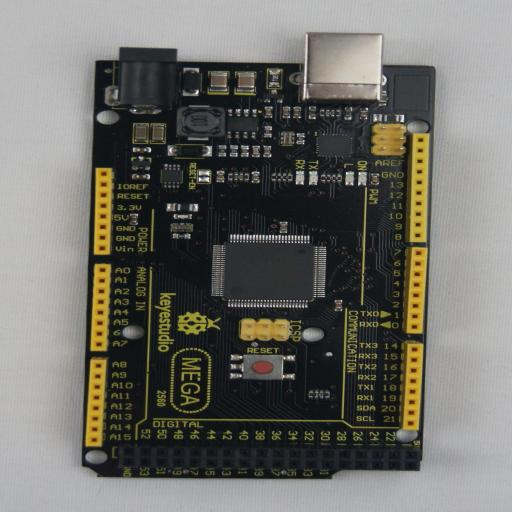Arduino Mega 2560 -Black and Yellow-: (82, 33, 435, 479)
